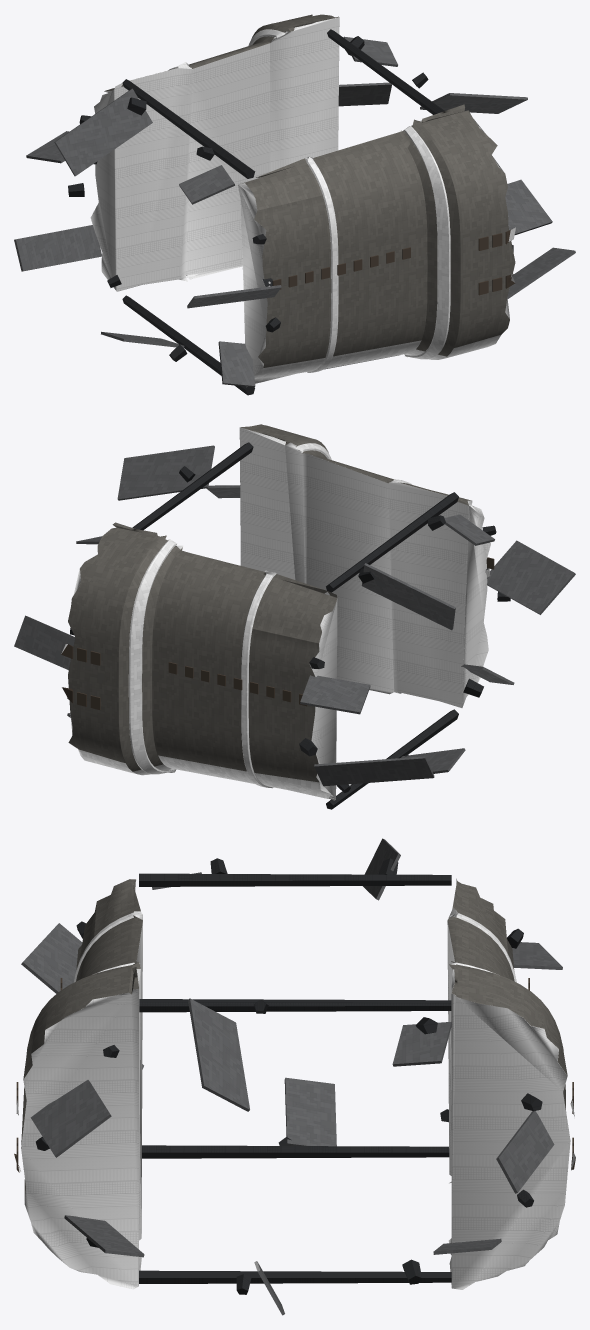
File: wreck_liner_drum__derelict.glb
The picture shows the model from 3 angles, top to bottom: view 1: azimuth 30°, elevation 25°; view 2: azimuth 150°, elevation 25°; view 3: azimuth 270°, elevation 25°; orthographic projection. The views are drawn at different scales.
Visible parts, largest first — view 1: Drum, Drum.001, woundA_t_tear5, woundA_t_tear0, woundB_t_tear3, BhRib01, woundA_t_tear2, woundB_t_tear2, BhRib11, BhRib00, woundA_t_tear4, woundB_t_tear4 (+5 smaller); view 2: Drum.001, Drum, woundA_t_tear3, woundB_t_tear2, woundA_t_tear0, woundA_t_tear5, woundA_t_tear6, woundB_t_tear0, BhRib01, BhRib11, BhRib00, woundA_t_tear4 (+1 smaller); view 3: Drum.001, Drum, woundB_t_tear2, BhRib01, BhRib00, BhRib11, BhRib10, woundA_t_tear1, woundB_t_tear3, woundA_t_tear3, woundB_t_tear0, woundB_t_tear1 (+4 smaller).
Part boxes in pixels (x1,y1,x2,y2): Drum: [238, 104, 515, 387]; Drum.001: [90, 14, 339, 291]; woundA_t_tear5: [54, 88, 152, 176]; woundA_t_tear0: [14, 225, 102, 271]; woundB_t_tear3: [505, 179, 552, 234]; BhRib01: [122, 79, 255, 178]; woundA_t_tear2: [218, 341, 255, 387]; woundB_t_tear2: [420, 93, 527, 113]; BhRib11: [327, 29, 444, 114]; BhRib00: [122, 295, 254, 395]; woundA_t_tear4: [179, 165, 234, 204]; woundB_t_tear4: [507, 247, 575, 298]; Drum.001: [68, 522, 337, 800]; Drum: [239, 424, 490, 707]; woundA_t_tear3: [487, 540, 575, 614]; woundB_t_tear2: [117, 445, 214, 500]; woundA_t_tear0: [314, 756, 434, 786]; woundA_t_tear5: [361, 563, 455, 630]; woundA_t_tear6: [300, 675, 370, 714]; woundB_t_tear0: [14, 615, 75, 670]; BhRib01: [326, 492, 458, 592]; BhRib11: [132, 442, 253, 530]; BhRib00: [326, 709, 458, 809]; woundA_t_tear4: [444, 514, 494, 545]; Drum.001: [447, 878, 570, 1289]; Drum: [21, 879, 142, 1289]; woundB_t_tear2: [188, 998, 249, 1111]; BhRib01: [139, 873, 451, 886]; BhRib00: [142, 1145, 449, 1158]; BhRib11: [139, 999, 451, 1012]; BhRib10: [139, 1270, 451, 1283]; woundA_t_tear1: [284, 1077, 336, 1146]; woundB_t_tear3: [30, 1080, 111, 1157]; woundA_t_tear3: [21, 923, 82, 993]; woundB_t_tear0: [496, 1111, 554, 1193]; woundB_t_tear1: [392, 1022, 451, 1066].
Bounding box in the file's own units: 87 × 50 × 80.99.
Materials: 9 (8 with a texture image).
